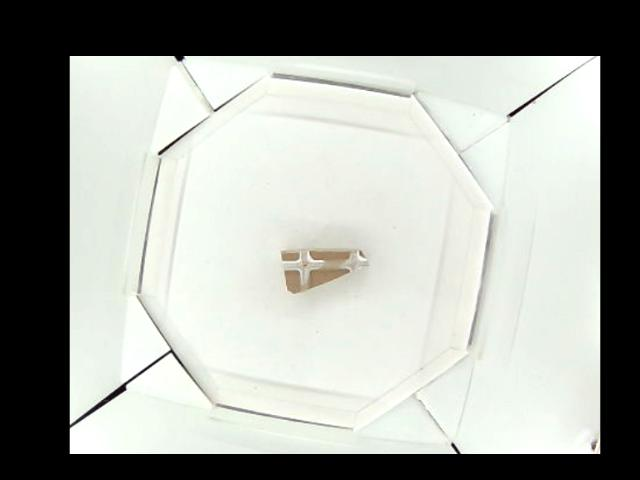China: (278, 247, 368, 293)
